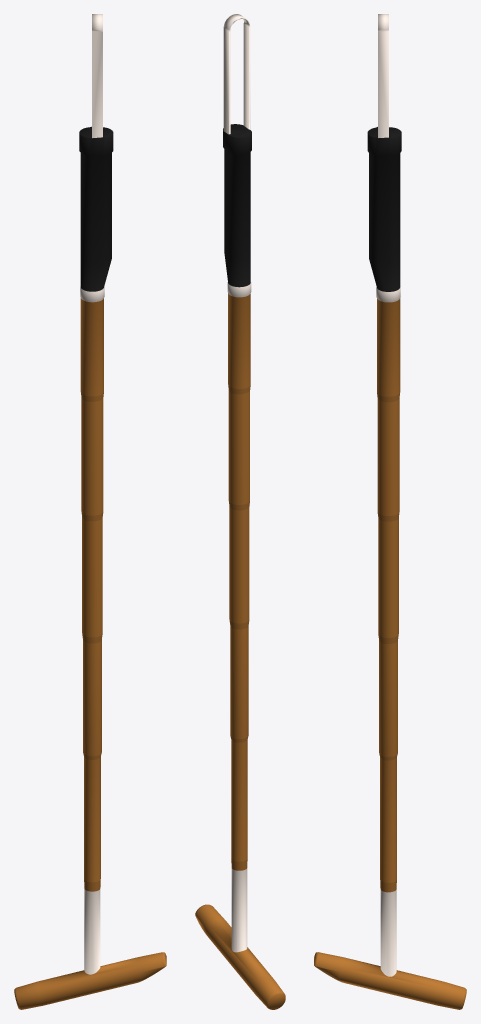
Rendered from TacoDePolo.fbx.
3 renders of one model, left to right at view 1: azimuth 90°, elevation 25°; view 2: azimuth 210°, elevation 25°; view 3: azimuth 270°, elevation 25°, orthographic. The views are drawn at different scales.
Parts seen in each view (by area): view 1: TacoPolo; view 2: TacoPolo; view 3: TacoPolo.
Part boxes in pixels (box(x1,y1,x2,y2)): TacoPolo: box(14, 14, 166, 1009); TacoPolo: box(195, 14, 285, 1009); TacoPolo: box(314, 14, 466, 1009).
Bounding box in the file's own units: 3.37 × 141 × 19.6.
